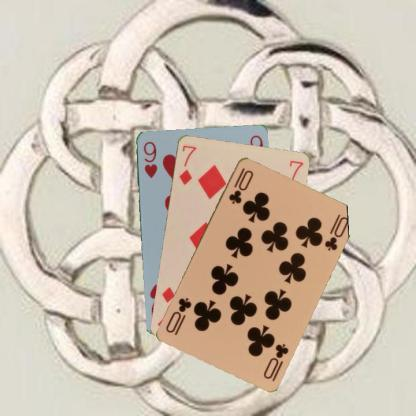10c: (261, 340, 290, 382), (226, 165, 255, 205)
7d: (176, 142, 198, 186)
9h: (140, 139, 158, 179)
